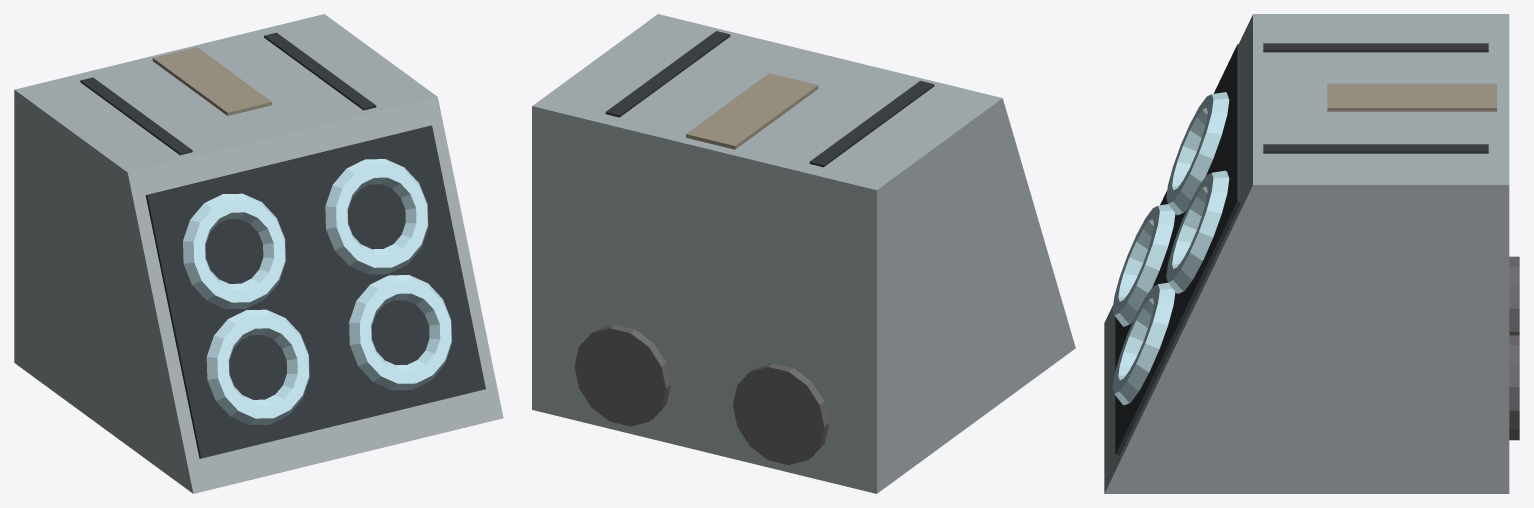
Rendered from vge_large_electric_thruster.obj.
The picture shows the model from 3 angles, left to right: view 1: azimuth 30°, elevation 25°; view 2: azimuth 150°, elevation 25°; view 3: azimuth 270°, elevation 25°; orthographic projection. The views are drawn at different scales.
Visible parts, largest first — view 1: vge_large_electric_thruster_0, vge_large_electric_thruster_1, vge_large_electric_thruster_5, vge_large_electric_thruster_3, vge_large_electric_thruster_4, vge_large_electric_thruster_2, vge_large_electric_thruster_6, vge_large_electric_thruster_7, vge_large_electric_thruster_8; view 2: vge_large_electric_thruster_0, vge_large_electric_thruster_10, vge_large_electric_thruster_9, vge_large_electric_thruster_6, vge_large_electric_thruster_7, vge_large_electric_thruster_8; view 3: vge_large_electric_thruster_0, vge_large_electric_thruster_1, vge_large_electric_thruster_6, vge_large_electric_thruster_5, vge_large_electric_thruster_4, vge_large_electric_thruster_3, vge_large_electric_thruster_2, vge_large_electric_thruster_7, vge_large_electric_thruster_8, vge_large_electric_thruster_10, vge_large_electric_thruster_9.
Boxes of the visible parts, x1,y1,x2,y2 form: vge_large_electric_thruster_0: [14, 14, 503, 493]; vge_large_electric_thruster_1: [145, 125, 485, 458]; vge_large_electric_thruster_5: [325, 159, 428, 274]; vge_large_electric_thruster_3: [183, 193, 285, 309]; vge_large_electric_thruster_4: [349, 275, 451, 390]; vge_large_electric_thruster_2: [206, 309, 309, 425]; vge_large_electric_thruster_6: [152, 47, 271, 115]; vge_large_electric_thruster_7: [80, 77, 192, 155]; vge_large_electric_thruster_8: [264, 32, 376, 110]; vge_large_electric_thruster_0: [532, 14, 1075, 493]; vge_large_electric_thruster_10: [574, 324, 670, 426]; vge_large_electric_thruster_9: [733, 363, 829, 464]; vge_large_electric_thruster_6: [686, 73, 818, 149]; vge_large_electric_thruster_7: [809, 81, 934, 167]; vge_large_electric_thruster_8: [605, 31, 730, 117]; vge_large_electric_thruster_0: [1104, 14, 1509, 493]; vge_large_electric_thruster_1: [1115, 44, 1241, 455]; vge_large_electric_thruster_6: [1327, 83, 1496, 111]; vge_large_electric_thruster_5: [1166, 170, 1229, 293]; vge_large_electric_thruster_4: [1112, 282, 1175, 405]; vge_large_electric_thruster_3: [1166, 92, 1229, 215]; vge_large_electric_thruster_2: [1112, 204, 1175, 326]; vge_large_electric_thruster_7: [1263, 43, 1488, 52]; vge_large_electric_thruster_8: [1263, 144, 1488, 153]; vge_large_electric_thruster_10: [1509, 335, 1519, 440]; vge_large_electric_thruster_9: [1509, 256, 1519, 335].
Bounding box in the file's own units: 1.96 × 1.67 × 2.01.
